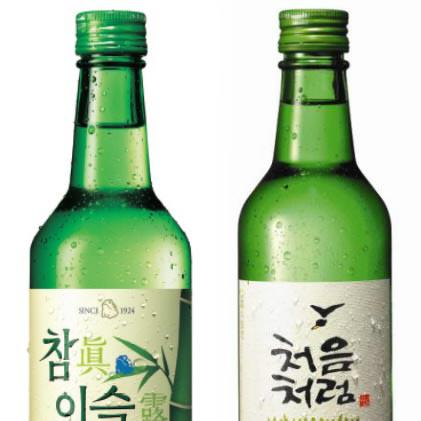soju: (26, 7, 194, 421), (235, 6, 396, 421)
